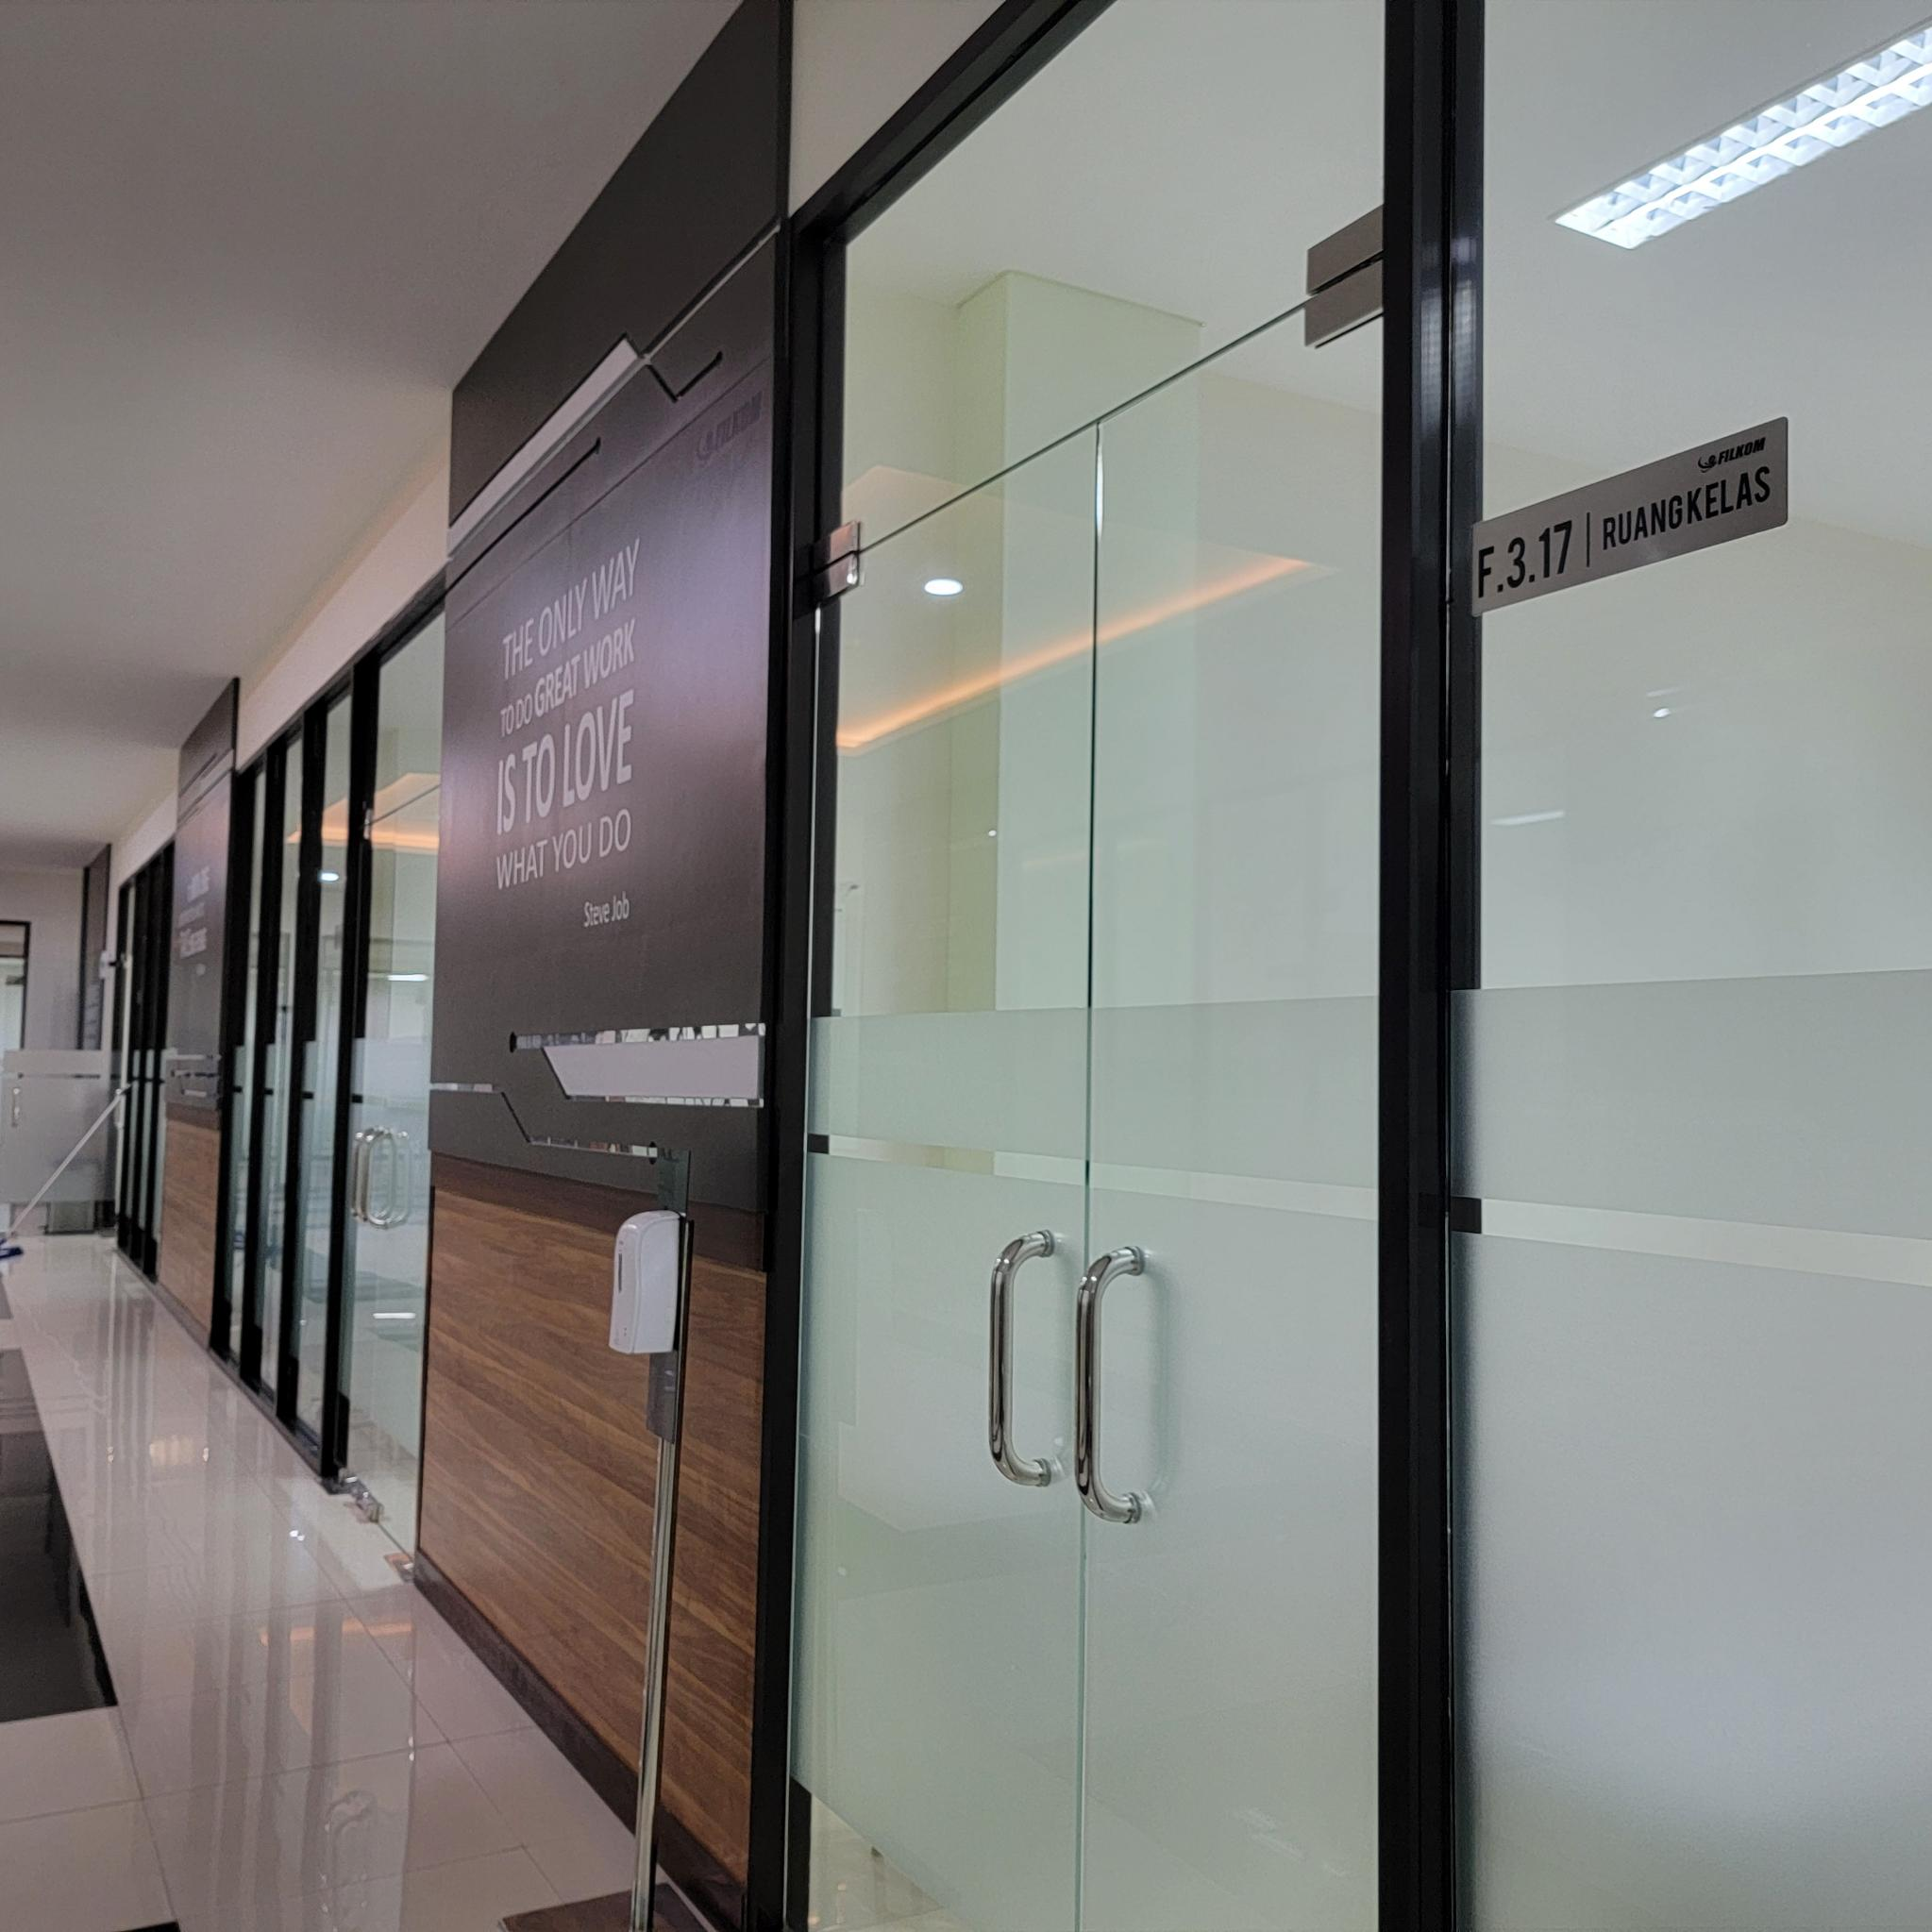plate: (1468, 418, 1790, 617)
